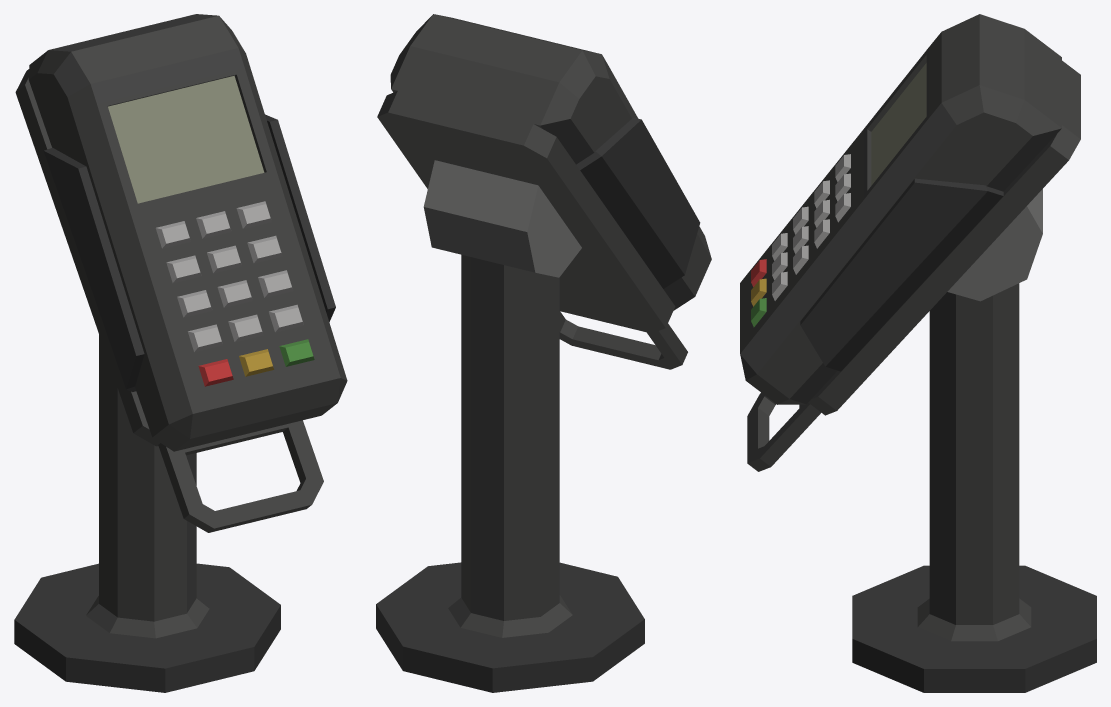
Rendered from SM_Props_Interior_Shop_CardMachine_02.fbx.
3 views of the same model, side by side, from view 1: azimuth 30°, elevation 25°; view 2: azimuth 150°, elevation 25°; view 3: azimuth 270°, elevation 25° (orthographic). The views are drawn at different scales.
Visible parts, largest first — view 1: SM_Props_Interior_Shop_CardMachine_02; view 2: SM_Props_Interior_Shop_CardMachine_02; view 3: SM_Props_Interior_Shop_CardMachine_02.
Part boxes in pixels (<box>): SM_Props_Interior_Shop_CardMachine_02: <box>14,14,347,692</box>; SM_Props_Interior_Shop_CardMachine_02: <box>376,14,711,692</box>; SM_Props_Interior_Shop_CardMachine_02: <box>740,14,1096,692</box>.
Size of the model in its own units: 9.98 by 26.64 by 14.55.
